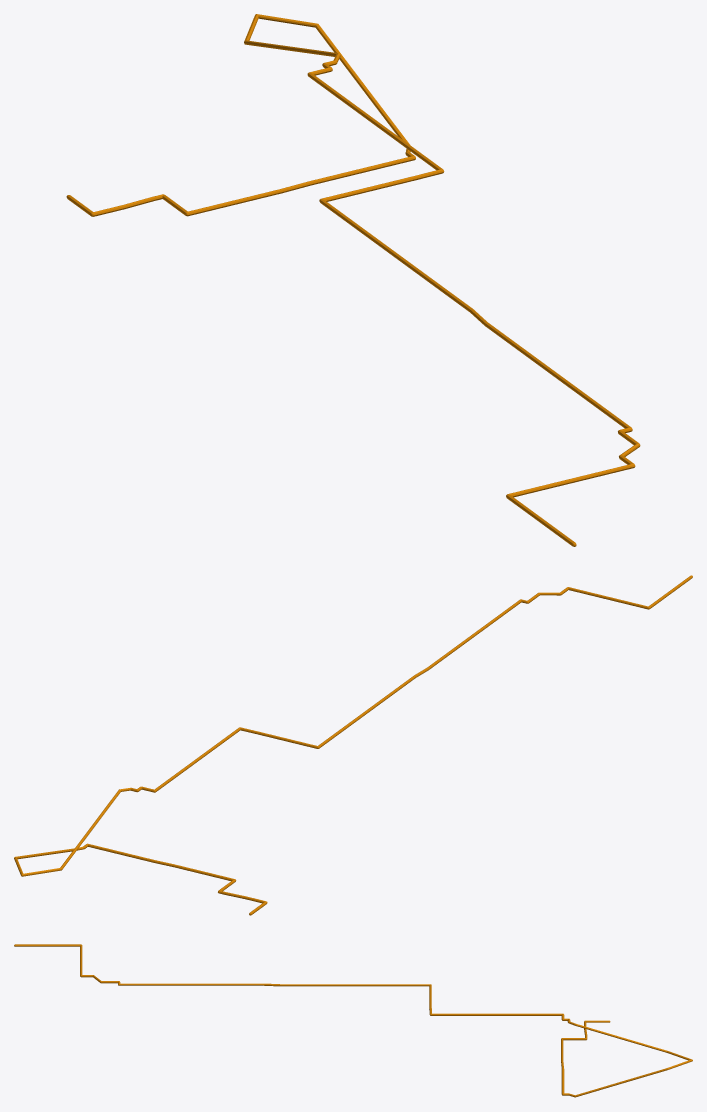
The picture shows the model from 3 angles, top to bottom: view 1: azimuth 30°, elevation 25°; view 2: azimuth 150°, elevation 25°; view 3: azimuth 270°, elevation 25°; orthographic projection. The views are drawn at different scales.
Size of the model in its own units: 1918 by 520 by 5653.
